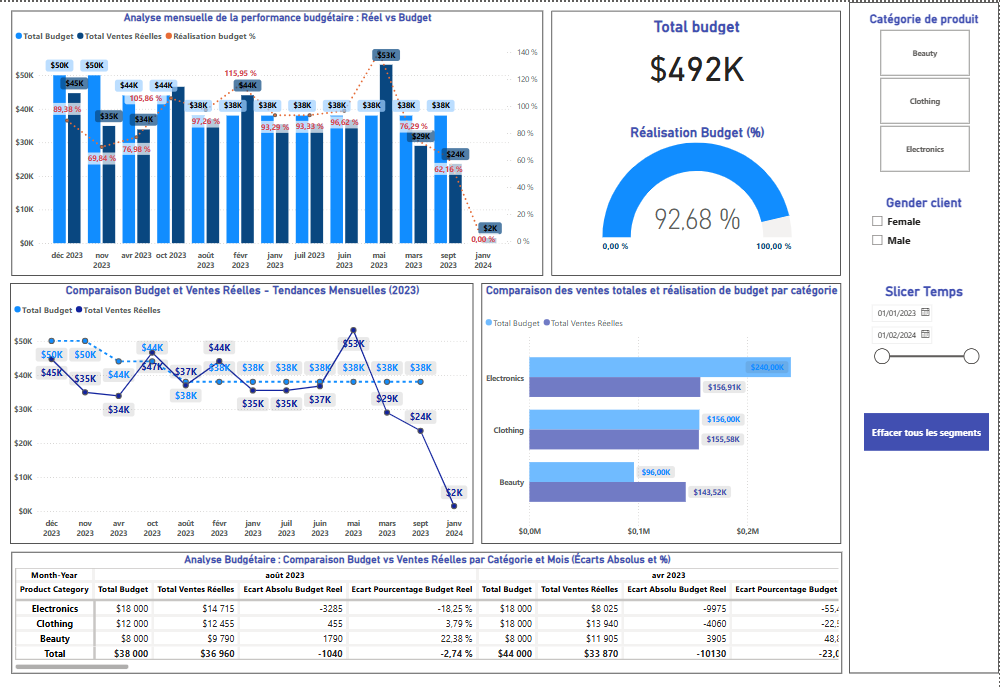

The dashboard page shown, as its layout file describes it:
{"tool":"powerbi","page":{"name":"budget","canvas":[1600,1100],"ordinal":1},"visuals":[{"type":"shape","box":[1360,0,240,1074],"z":0,"group":"g1"},{"type":"pivotTable","title":"Analyse Budgétaire : Comparaison Budget vs Ventes Réelles par Catégorie et Mois (Écarts Absolus et %)","fields":{"Values":["fact_budget.Total Budget","fact_sales.Total Sales","fact_budget.Ecart Absolu Budget Reel","fact_budget.Ecart Pourcentage Budget Reel"],"Rows":["dim_product.Product Category"],"Columns":["dim_date.Month-Year"]},"box":[19,880,1329,194],"z":0},{"type":"shape","box":[1360,0,240,1074],"z":1000,"group":"g1"},{"type":"lineChart","title":"Comparaison Budget et Ventes Réelles - Tendances Mensuelles (2023)","fields":{"Category":["dim_date.Month-Year"],"Y":["fact_budget.Total Budget","fact_sales.Total Sales"]},"box":[18,450,741,417],"z":1000},{"type":"clusteredBarChart","title":"Comparaison des ventes totales et réalisation de budget par catégorie ","fields":{"Y":["fact_budget.Total Budget","fact_sales.Total Ventes Réelles"],"Category":["dim_product.Product Category"]},"box":[772,450,575,417],"z":2000},{"type":"slicer","title":"Slicer Temps","fields":{"Values":["dim_date.Date"]},"box":[1383.8,450.5,192.5,207.3],"z":2000,"group":"g1"},{"type":"lineClusteredColumnComboChart","title":"Analyse mensuelle de la performance budgétaire : Réel vs Budget","fields":{"Category":["dim_date.Month-Year"],"Y":["fact_budget.Total Budget","fact_sales.Total Ventes Réelles"],"Y2":["fact_sales.Réalisation budget %"]},"box":[19,14,850,424],"z":3000},{"type":"slicer","title":"Slicer Temps","fields":{"Values":["dim_date.Date"]},"box":[1383.8,450.5,192.5,207.3],"z":3000,"group":"g1"},{"type":"slicer","title":"Gender client","fields":{"Values":["dim_customer.gender"]},"box":[1383.8,307.3,192.5,143.2],"z":4000,"group":"g1"},{"type":"shape","box":[884,14,463,424],"z":4500},{"type":"card","title":"Total budget ","fields":{"Values":["fact_budget.Total Budget"]},"box":[896,24,441,124],"z":4750},{"type":"gauge","title":"Réalisation Budget (%)","fields":{"Y":["fact_sales.Réalisation budget %"]},"box":[930,196,374,213],"z":4875},{"type":"group","id":"g1","title":"Filters","box":[1360,0,240,1074],"z":5000},{"type":"slicer","title":"Gender client","fields":{"Values":["dim_customer.gender"]},"box":[1383.8,307.3,192.5,143.2],"z":5000,"group":"g1"},{"type":"slicer","title":"Catégorie de produit","fields":{"Values":["dim_product.Product Category"]},"box":[1383.8,16.4,192.5,262.5],"z":6000,"group":"g1"},{"type":"slicer","title":"Catégorie de produit","fields":{"Values":["dim_product.Product Category"]},"box":[1383.8,16.4,192.5,262.5],"z":7000,"group":"g1"},{"type":"actionButton","box":[1383.8,657.8,200,59.7],"z":8000,"group":"g1"},{"type":"actionButton","box":[1383.8,657.8,200,59.7],"z":9000,"group":"g1"}]}

Visuals, with their boxes in screenshot pixels (x1, y1, x2, y2), scaled from the page's 1600x1100 canvas onto the 1000x687 screenshot:
shape: bbox(850, 0, 999, 671)
"Analyse Budgétaire : Comparaison Budget vs Ventes Réelles par Catégorie et Mois (Écarts Absolus et %)" pivotTable: bbox(12, 550, 842, 671)
shape: bbox(850, 0, 999, 671)
"Comparaison Budget et Ventes Réelles - Tendances Mensuelles (2023)" lineChart: bbox(11, 281, 474, 541)
"Comparaison des ventes totales et réalisation de budget par catégorie " clusteredBarChart: bbox(482, 281, 842, 541)
"Slicer Temps" slicer: bbox(865, 281, 985, 411)
"Analyse mensuelle de la performance budgétaire : Réel vs Budget" lineClusteredColumnComboChart: bbox(12, 9, 543, 274)
"Slicer Temps" slicer: bbox(865, 281, 985, 411)
"Gender client" slicer: bbox(865, 192, 985, 281)
shape: bbox(552, 9, 842, 274)
"Total budget " card: bbox(560, 15, 836, 92)
"Réalisation Budget (%)" gauge: bbox(581, 122, 815, 255)
"Filters" group: bbox(850, 0, 999, 671)
"Gender client" slicer: bbox(865, 192, 985, 281)
"Catégorie de produit" slicer: bbox(865, 10, 985, 174)
"Catégorie de produit" slicer: bbox(865, 10, 985, 174)
actionButton: bbox(865, 411, 990, 448)
actionButton: bbox(865, 411, 990, 448)
